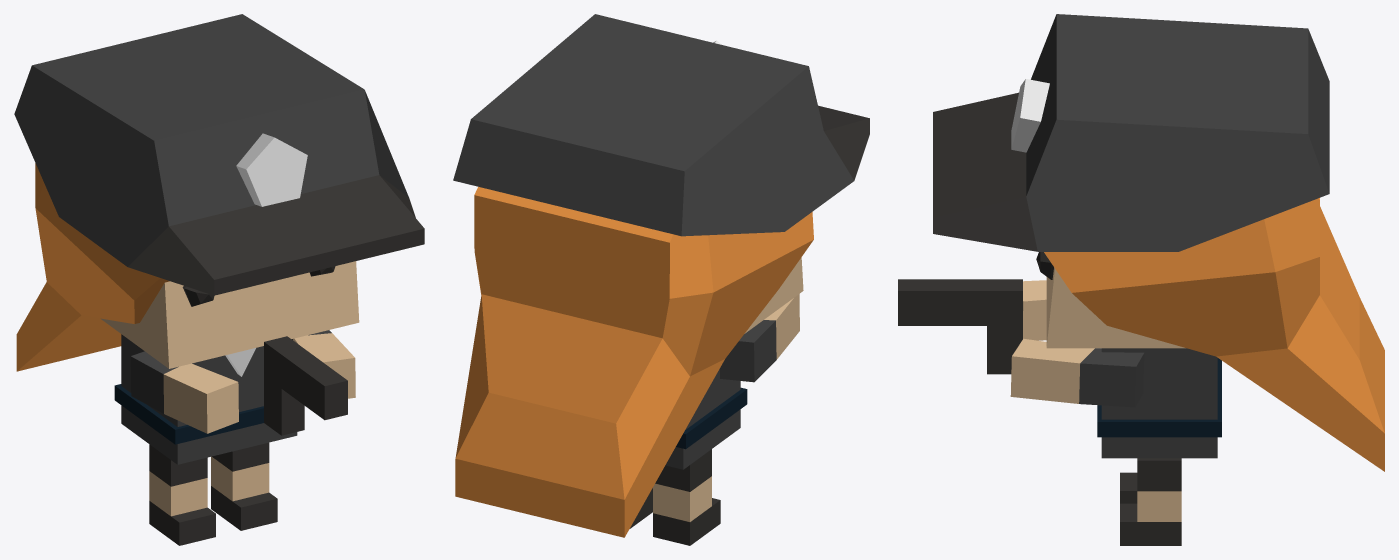
The model's file is Character_police_black.fbx.
The picture shows the model from 3 angles, left to right: view 1: azimuth 30°, elevation 25°; view 2: azimuth 150°, elevation 25°; view 3: azimuth 270°, elevation 25°; orthographic projection. The views are drawn at different scales.
Parts seen in each view (by area): view 1: Head, Foot, Body_Black, Arm, Gun; view 2: Head, Foot, Body_Black, Arm; view 3: Head, Body_Black, Arm, Gun, Foot.
Boxes of the visible parts, x1=… form: Head: x1=14, y1=14, x2=424, y2=371; Foot: x1=149, y1=442, x2=277, y2=545; Body_Black: x1=114, y1=334, x2=297, y2=464; Arm: x1=130, y1=330, x2=355, y2=433; Gun: x1=264, y1=336, x2=347, y2=435; Head: x1=453, y1=14, x2=869, y2=537; Foot: x1=630, y1=449, x2=720, y2=545; Body_Black: x1=665, y1=368, x2=747, y2=469; Arm: x1=720, y1=294, x2=799, y2=382; Head: x1=933, y1=14, x2=1384, y2=471; Body_Black: x1=1095, y1=348, x2=1221, y2=458; Arm: x1=1010, y1=280, x2=1144, y2=407; Gun: x1=898, y1=279, x2=1022, y2=374; Foot: x1=1120, y1=458, x2=1181, y2=545.
Bounding box in the file's own units: 1.48 × 2.22 × 2.15.
